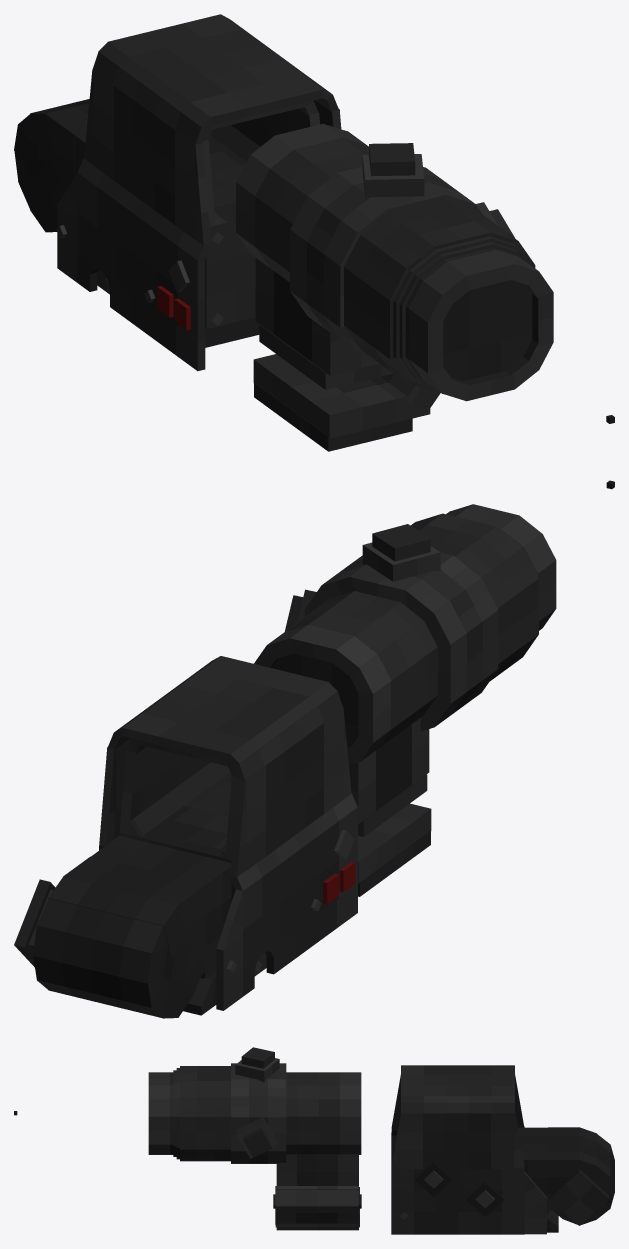
Rendered from j_eotechhybrid.geo.fbx.
3 views of the same model, one above another, from view 1: azimuth 30°, elevation 25°; view 2: azimuth 150°, elevation 25°; view 3: azimuth 270°, elevation 25° (orthographic). The views are drawn at different scales.
Parts seen in each view (by area): view 1: 1p2, specter5, specter12, specter8, specter9, 1p87, scopepip, 1p3, specter10, 1p89, specter7, specter6; view 2: 1p2, specter5, 1p3, 1p87, specter9, specter12, specter8, 1p89, specter10, bone, 1p4; view 3: 1p2, specter5, specter12, specter8, specter9, 1p87, 1p3, 1p4, specter10, specter11, specter7, specter6.
Part boxes in pixels (x1=…): 1p2: x1=56, y1=14, x2=341, y2=371; specter5: x1=236, y1=123, x2=553, y2=401; specter12: x1=253, y1=258, x2=440, y2=451; specter8: x1=344, y1=199, x2=535, y2=391; specter9: x1=290, y1=166, x2=482, y2=356; 1p87: x1=45, y1=103, x2=260, y2=329; scopepip: x1=443, y1=280, x2=532, y2=380; 1p3: x1=14, y1=99, x2=89, y2=232; specter10: x1=362, y1=143, x2=424, y2=199; 1p89: x1=203, y1=100, x2=319, y2=226; specter7: x1=393, y1=236, x2=532, y2=388; specter6: x1=399, y1=242, x2=525, y2=383; 1p2: x1=99, y1=656, x2=357, y2=1015; specter5: x1=254, y1=504, x2=556, y2=765; 1p3: x1=33, y1=876, x2=204, y2=1018; 1p87: x1=63, y1=762, x2=235, y2=985; specter9: x1=304, y1=552, x2=498, y2=731; specter12: x1=349, y1=718, x2=431, y2=896; specter8: x1=410, y1=513, x2=538, y2=680; 1p89: x1=119, y1=738, x2=237, y2=859; specter10: x1=362, y1=524, x2=440, y2=581; bone: x1=272, y1=653, x2=358, y2=747; 1p4: x1=14, y1=879, x2=55, y2=967; 1p2: x1=391, y1=1065, x2=558, y2=1234; specter5: x1=148, y1=1072, x2=361, y2=1154; specter12: x1=273, y1=1154, x2=361, y2=1230; specter8: x1=180, y1=1066, x2=230, y2=1161; specter9: x1=231, y1=1063, x2=286, y2=1163; 1p87: x1=518, y1=1127, x2=579, y2=1214; 1p3: x1=553, y1=1127, x2=614, y2=1225; 1p4: x1=549, y1=1169, x2=609, y2=1225; specter10: x1=235, y1=1047, x2=279, y2=1082; specter11: x1=236, y1=1117, x2=276, y2=1158; specter7: x1=176, y1=1068, x2=179, y2=1159; specter6: x1=173, y1=1070, x2=176, y2=1156.
Size of the model in its own units: 34.64 by 52.69 by 173.
Materials: 1 (1 with a texture image).
